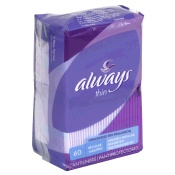grozi_82: (32, 5, 144, 170)
